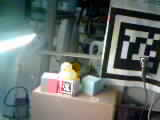duck: (47, 54, 79, 87)
